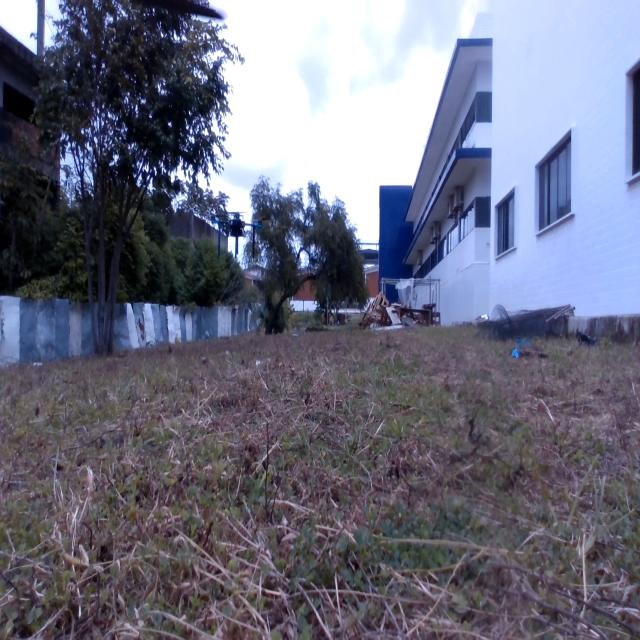-uav-: (206, 203, 262, 268)
